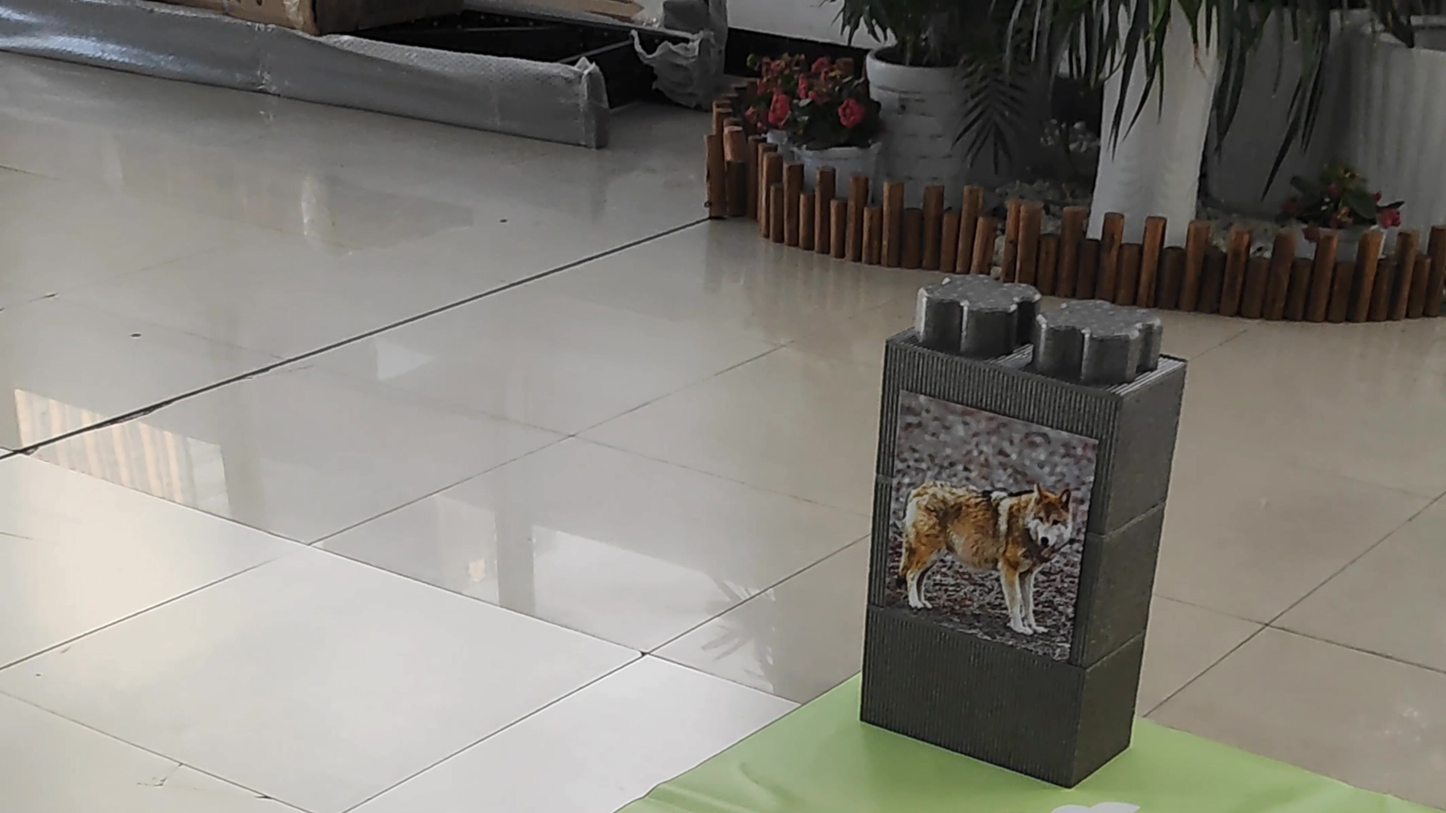wolf: (883, 422, 1084, 634)
